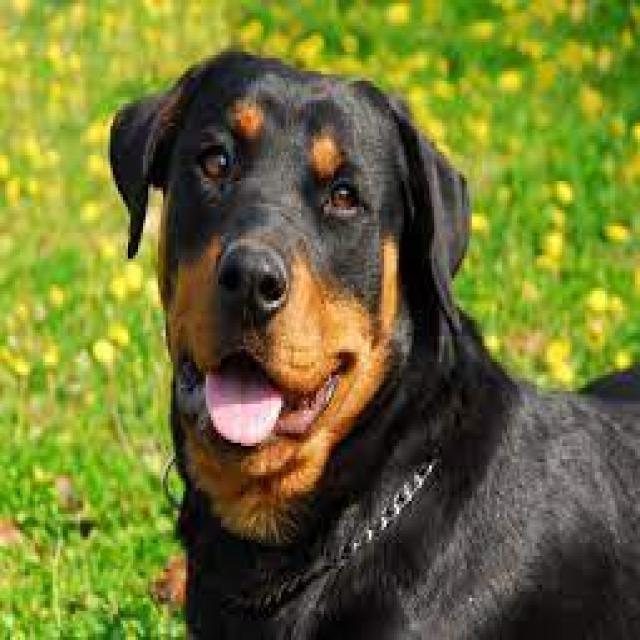rottweiler: (96, 33, 470, 496)
